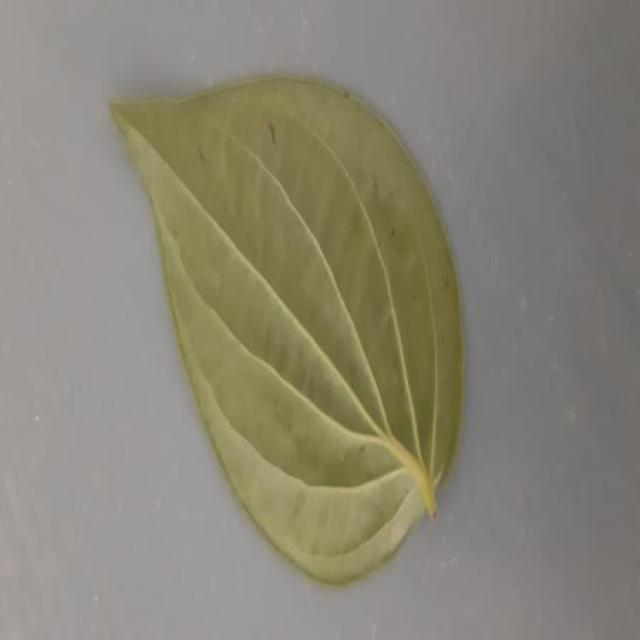betel: (112, 76, 463, 583)
